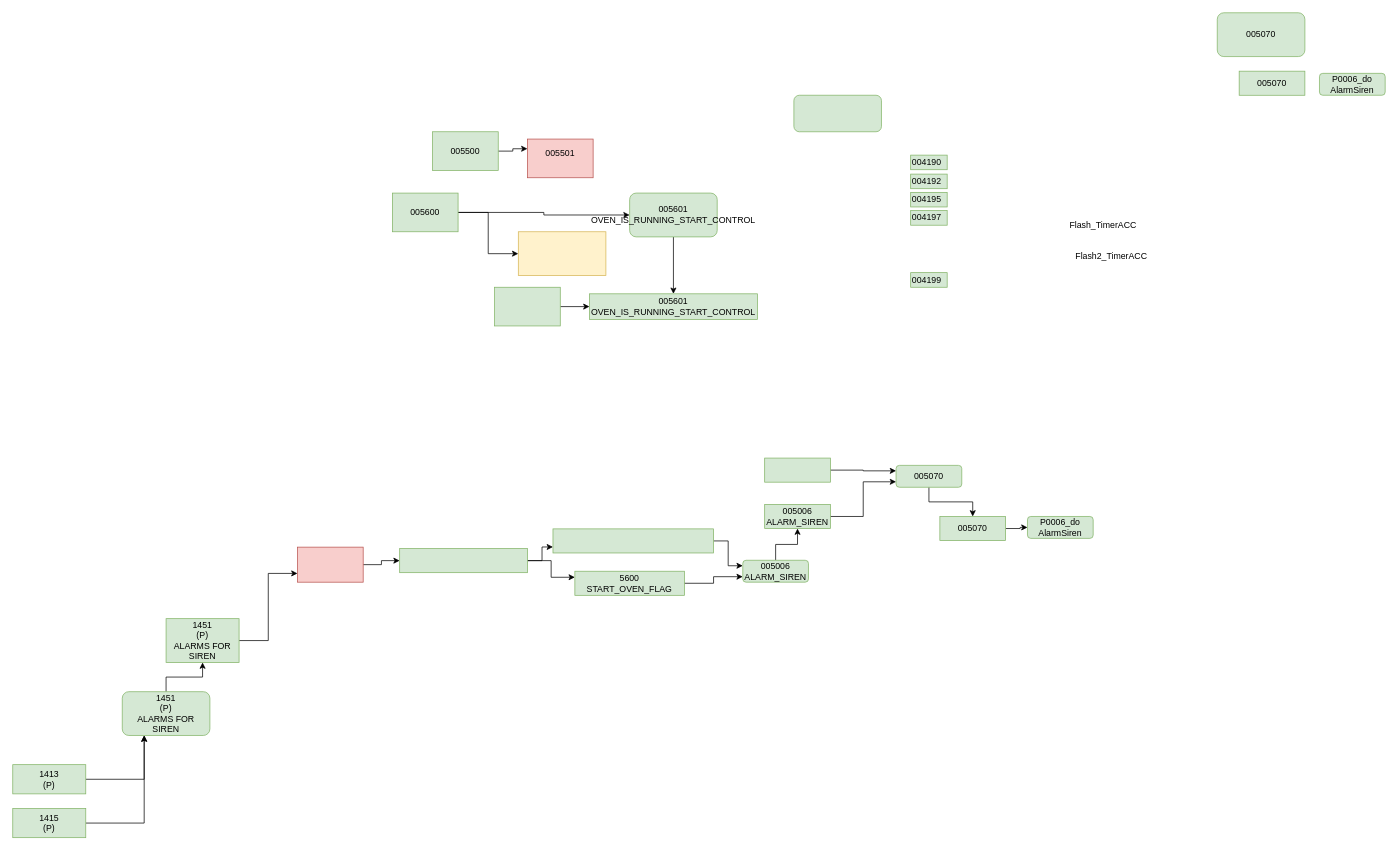
Image size: 1398x850. Some labels were removed from this diagram. Each missing label, with the centre of its shape:
004190 low temp alarm zone 1: point (837, 113)
004301 over\under alarm aktivated: point (527, 306)
100091 TestLightHorn: point (797, 469)
4096 EMERGENCY STOP ALARM: point (330, 564)
5601 OVEN_IS_RUNNING_START_CONTROL: point (633, 540)
6001 MAIN_CONTROL_SWITCH: point (463, 560)
Timer 402955: point (562, 253)
